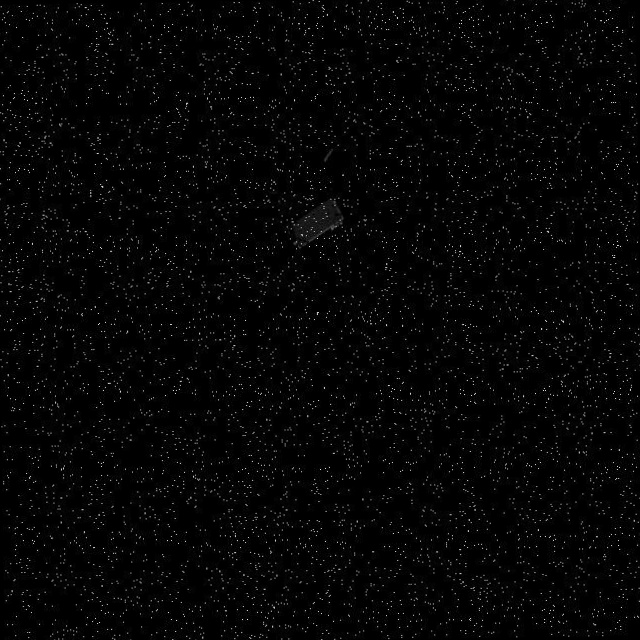medium_debris: (276, 196, 347, 255)
